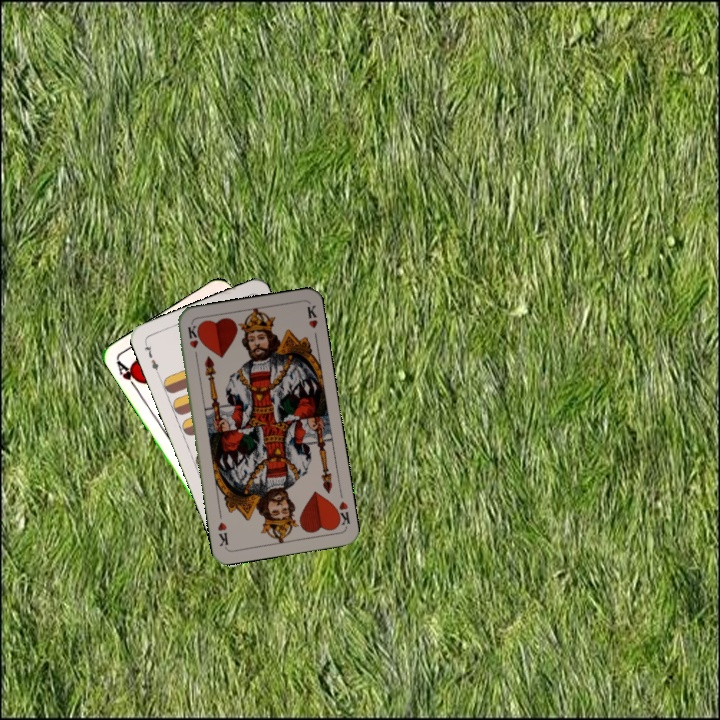E7: (140, 338, 162, 377)
HA: (112, 356, 144, 393)
HK: (330, 498, 352, 529), (184, 322, 201, 362)
